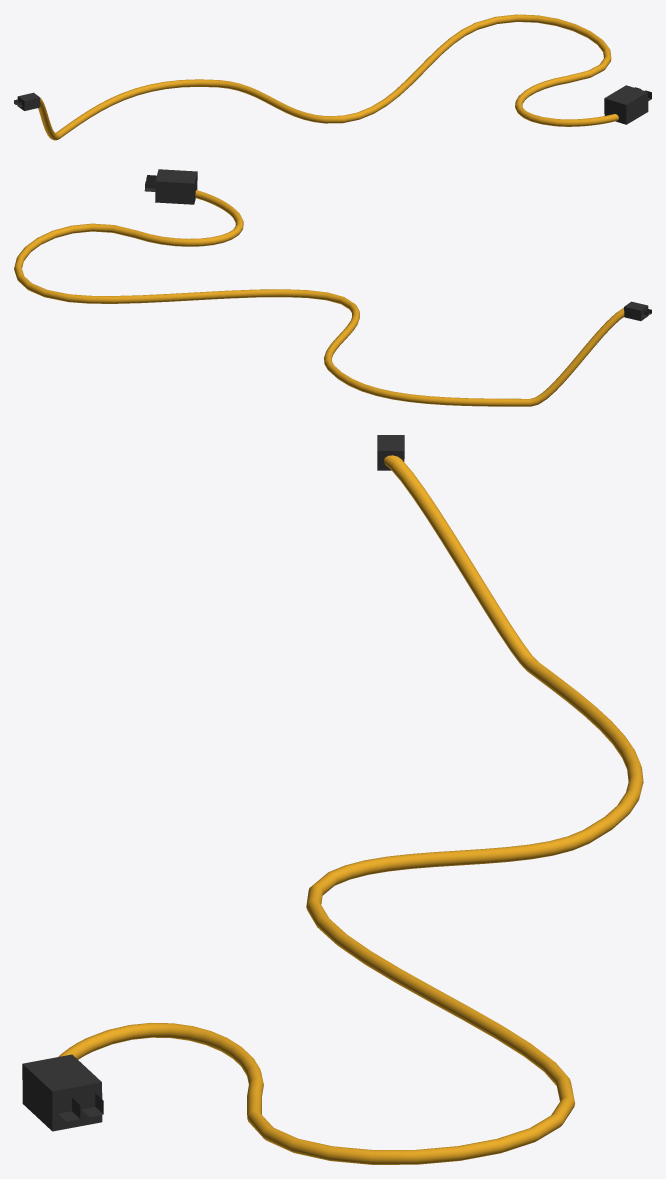
The model's file is cord.fbx.
The picture shows the model from 3 angles, top to bottom: view 1: azimuth 30°, elevation 25°; view 2: azimuth 150°, elevation 25°; view 3: azimuth 270°, elevation 25°; orthographic projection. The views are drawn at different scales.
Visible parts, largest first — view 1: Cord; view 2: Cord; view 3: Cord.
Part boxes in pixels (x1=…): Cord: x1=14, y1=14, x2=651, y2=140; Cord: x1=14, y1=169, x2=651, y2=406; Cord: x1=22, y1=435, x2=643, y2=1164.
Size of the model in its own units: 179 by 24.73 by 82.71.
